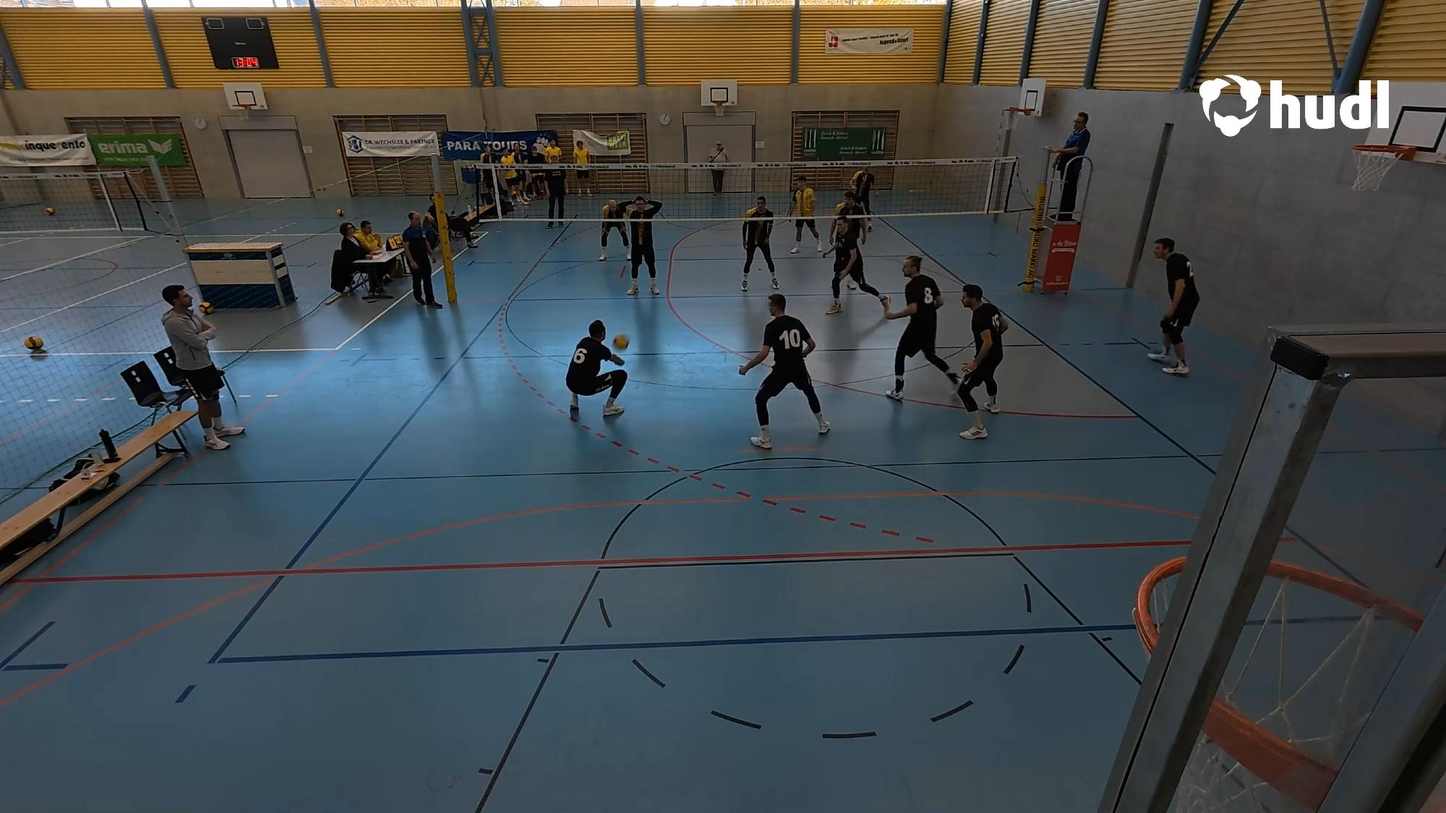Player: (737, 292, 831, 450), (882, 257, 962, 399), (949, 282, 1003, 438), (826, 214, 892, 321), (1152, 238, 1201, 375), (626, 197, 664, 297), (737, 197, 777, 290), (789, 179, 822, 255), (601, 190, 633, 263), (831, 188, 869, 246), (845, 166, 873, 231)
Receive: (564, 319, 629, 419)
ball: (613, 334, 631, 352)
